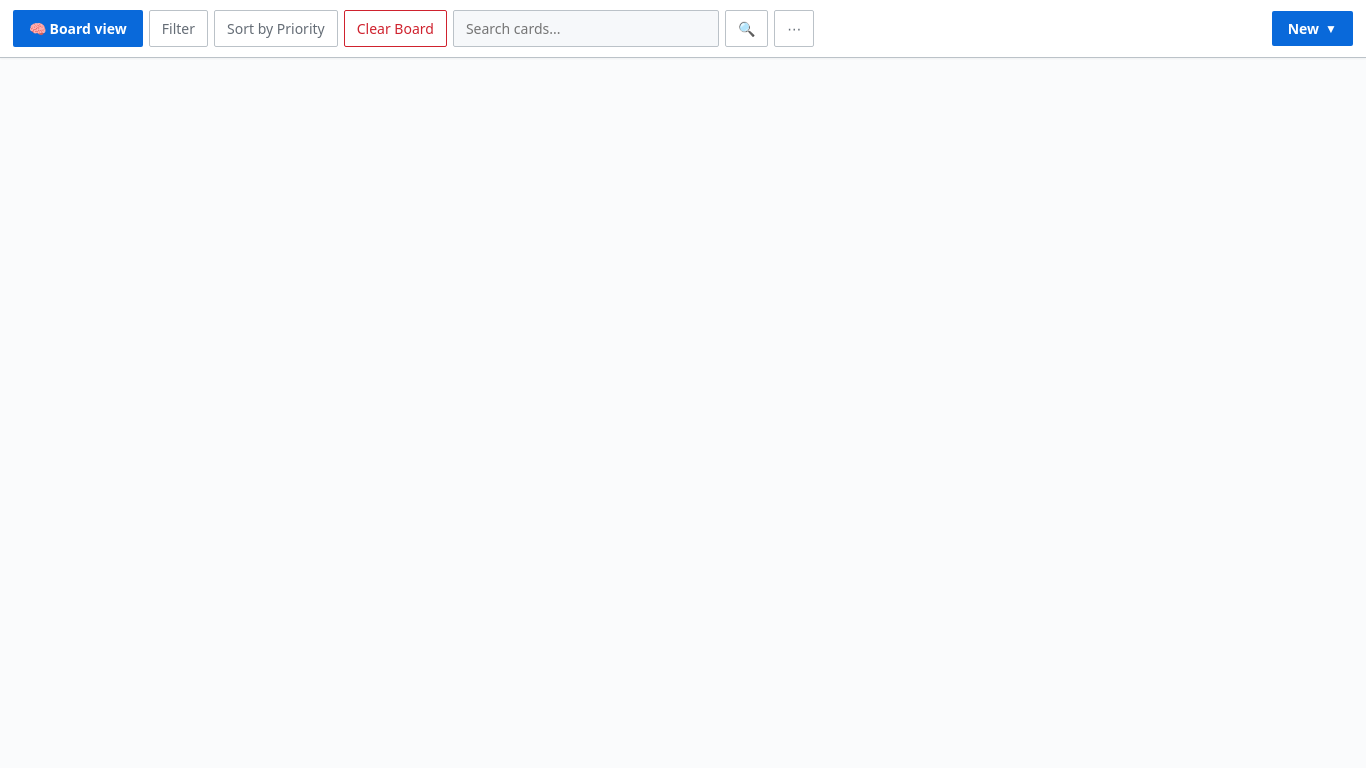
Test: KanbanToolbar › New Button Dropdown › should hide new dropdown after selection
The width and height of the screenshot is (1366, 768).
Step 1. Click the button "New ▼" → [1312, 28], box x1=1272 y1=11 x2=1353 y2=46
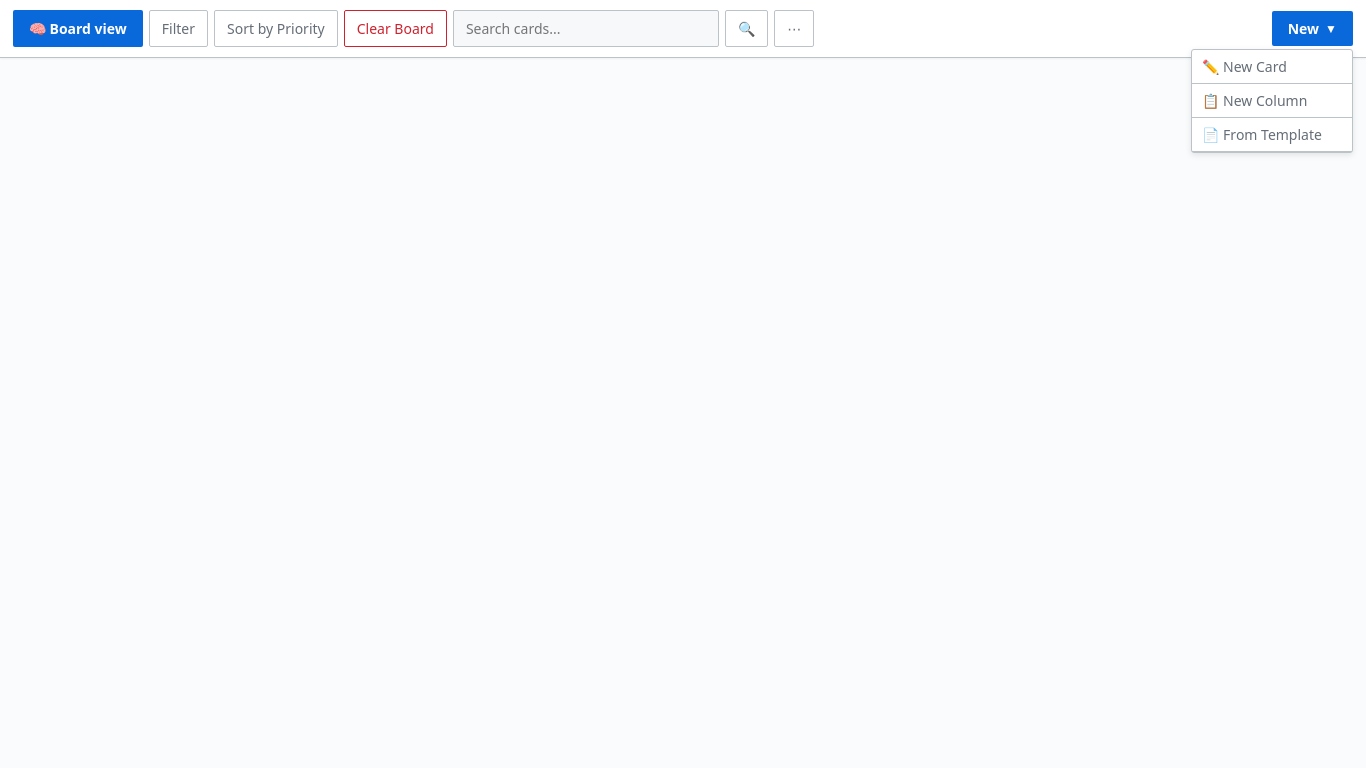
Step 2. Click the text "✏️ New Card" → [1272, 67], box x1=1192 y1=50 x2=1352 y2=84
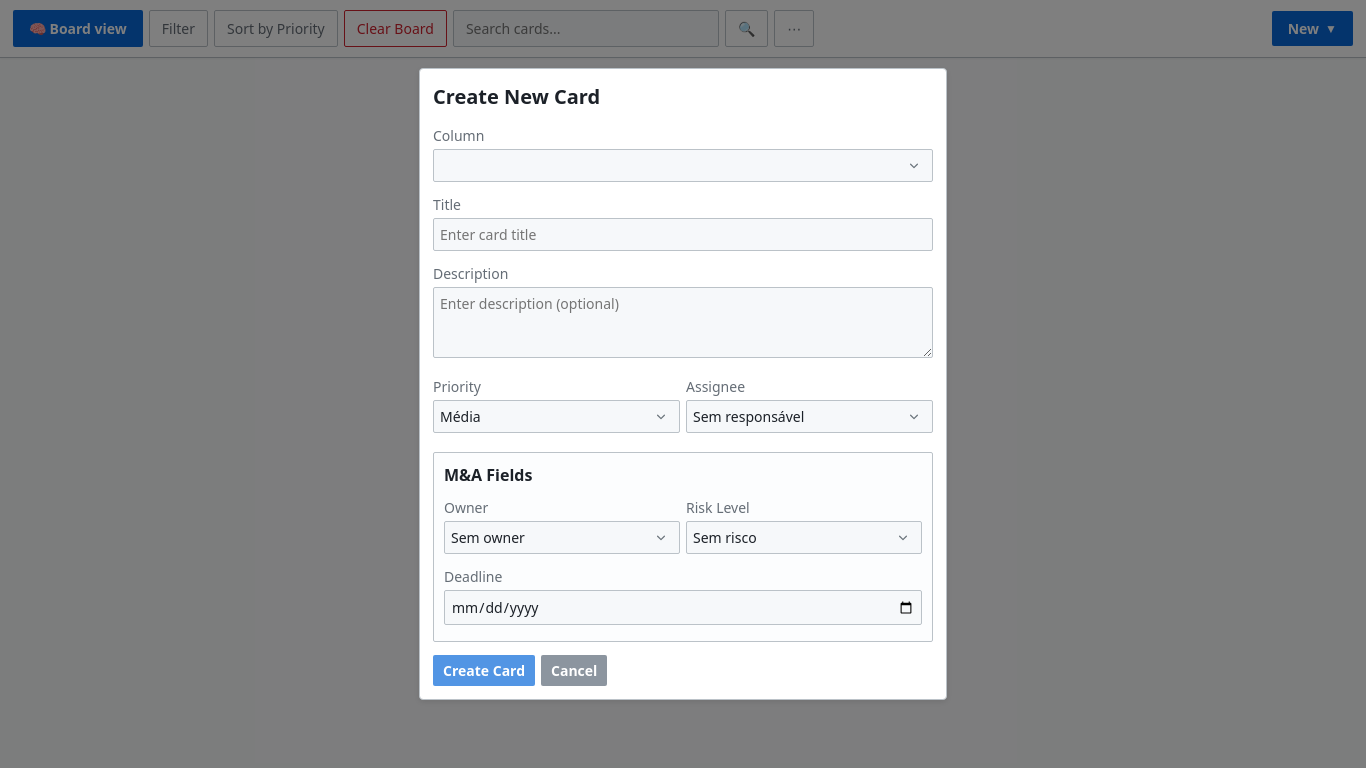
Expected: the text "✏️ New Card" is gone
